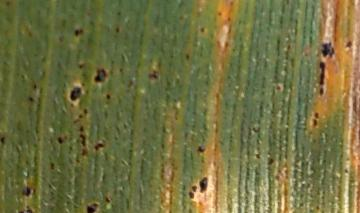tarspot: (319, 40, 336, 59), (67, 85, 83, 105), (91, 68, 108, 85), (317, 61, 327, 86), (198, 174, 208, 194), (85, 200, 100, 213), (146, 67, 159, 82), (20, 186, 34, 199), (73, 26, 85, 38), (78, 132, 87, 147), (93, 141, 104, 151), (56, 32, 66, 43), (197, 143, 205, 156), (17, 207, 34, 213), (344, 39, 353, 50), (266, 156, 275, 167), (56, 134, 64, 146), (317, 86, 326, 96), (49, 161, 58, 171), (26, 94, 35, 103), (80, 147, 88, 157), (39, 53, 47, 63), (186, 191, 195, 199), (190, 184, 198, 193), (1, 135, 7, 147), (82, 106, 88, 117), (77, 62, 85, 70), (103, 195, 112, 202), (215, 9, 222, 18), (311, 118, 318, 126), (78, 125, 85, 133), (114, 26, 121, 34), (117, 66, 124, 74), (313, 111, 319, 120), (253, 153, 262, 159), (105, 93, 112, 100), (184, 52, 190, 60), (199, 25, 205, 33), (77, 112, 83, 120), (343, 167, 349, 175), (32, 82, 37, 91), (72, 119, 79, 125), (225, 15, 231, 22), (275, 84, 281, 91), (229, 1, 234, 7), (116, 10, 120, 15)
